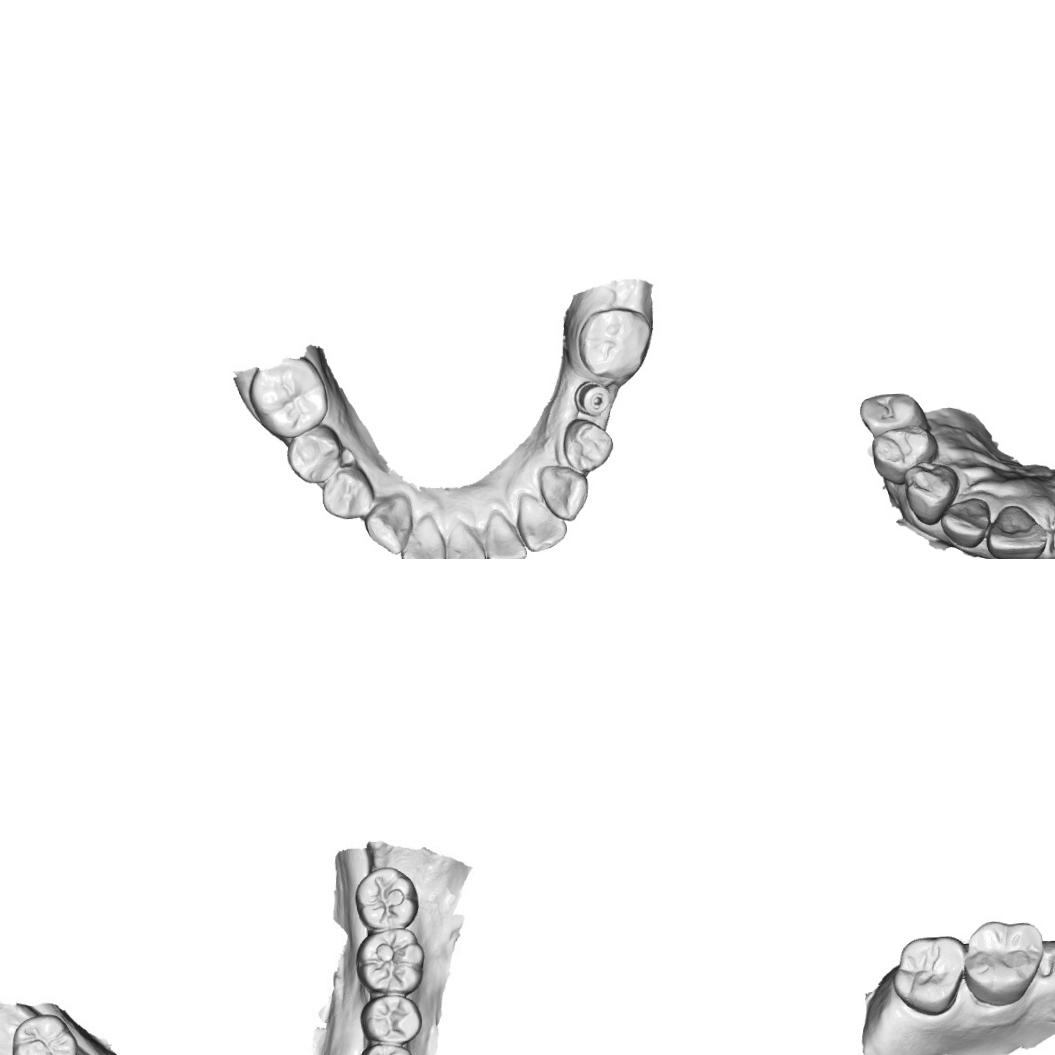canine: (902, 460, 962, 526), (363, 491, 414, 555), (538, 463, 590, 522)
implant_minus: (574, 382, 613, 418)
incisor: (984, 502, 1048, 559), (516, 491, 568, 553), (938, 497, 992, 550), (483, 507, 528, 559), (399, 512, 446, 559), (442, 516, 486, 559)
molar: (963, 916, 1047, 1008), (248, 354, 330, 440), (892, 932, 968, 1018), (576, 302, 654, 382), (353, 927, 428, 996), (354, 864, 420, 930), (9, 1012, 79, 1055)
premolar: (870, 423, 940, 486), (284, 423, 344, 486), (857, 390, 932, 436), (358, 993, 423, 1045), (319, 464, 376, 521), (561, 416, 616, 474), (355, 1041, 418, 1055)
